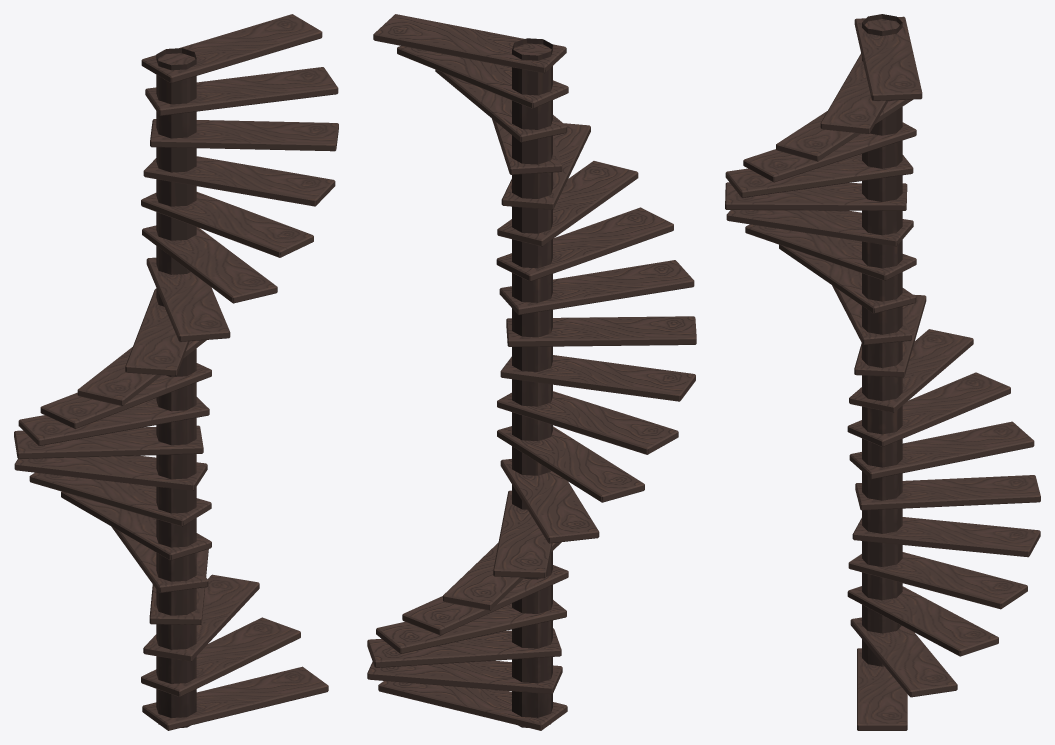
File: stairs.obj
3 renders of one model, left to right at view 1: azimuth 30°, elevation 25°; view 2: azimuth 150°, elevation 25°; view 3: azimuth 270°, elevation 25°, orthographic. The views are drawn at different scales.
Parts seen in each view (by area): view 1: steps_Cube.041, base_of_stairs_Cylinder.019; view 2: steps_Cube.041, base_of_stairs_Cylinder.019; view 3: steps_Cube.041, base_of_stairs_Cylinder.019.
Boxes of the visible parts, <box> form: steps_Cube.041: <box>14,14,338,730</box>; base_of_stairs_Cylinder.019: <box>156,48,196,727</box>; steps_Cube.041: <box>367,14,696,730</box>; base_of_stairs_Cylinder.019: <box>512,38,552,727</box>; steps_Cube.041: <box>725,16,1040,730</box>; base_of_stairs_Cylinder.019: <box>862,14,902,666</box>.
Bounding box in the file's own units: 1.56 × 3.5 × 1.55.
Materials: 1 (1 with a texture image).
